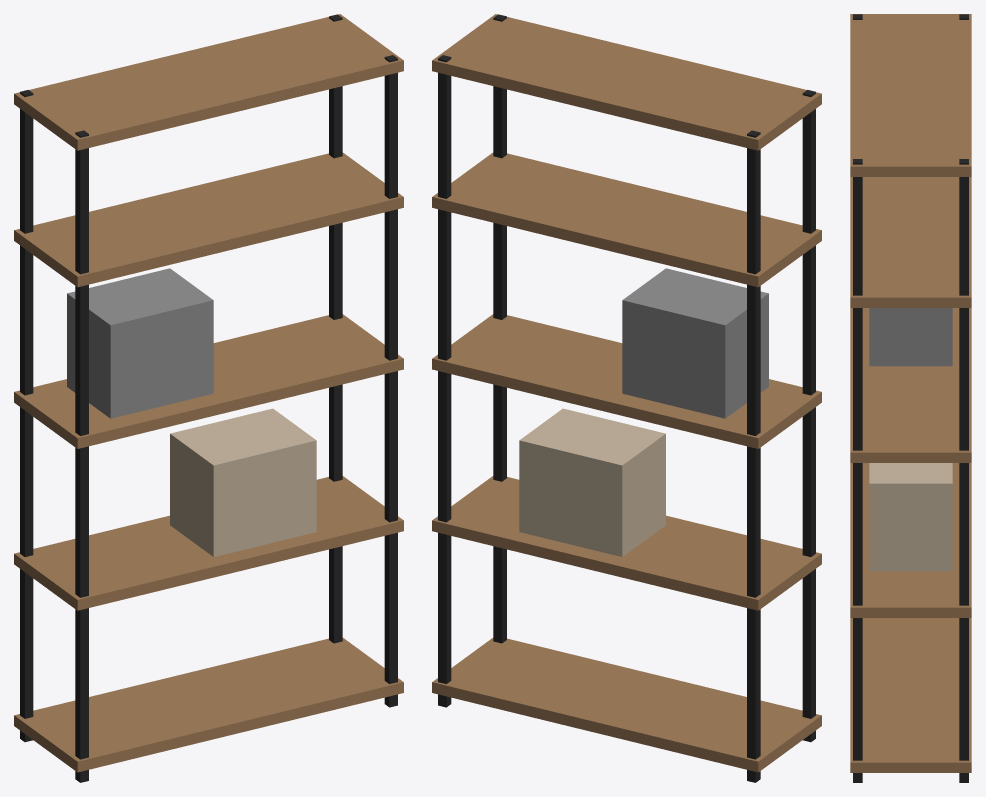
The model's file is bookshelf_steel.glb.
3 renders of one model, left to right at view 1: azimuth 30°, elevation 25°; view 2: azimuth 150°, elevation 25°; view 3: azimuth 270°, elevation 25°, orthographic. The views are drawn at different scales.
Visible parts, largest first — view 1: bookshelf_steel; view 2: bookshelf_steel; view 3: bookshelf_steel.
Part boxes in pixels (x1=…): bookshelf_steel: x1=14, y1=14, x2=403, y2=782; bookshelf_steel: x1=432, y1=14, x2=821, y2=782; bookshelf_steel: x1=850, y1=14, x2=971, y2=782.
Size of the model in its own units: 0.95 by 1.8 by 0.32.
